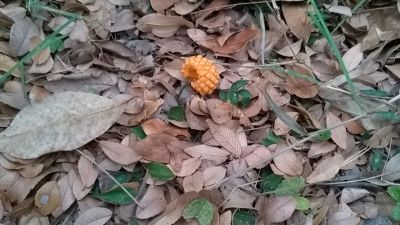eggs: (180, 56, 221, 93)
